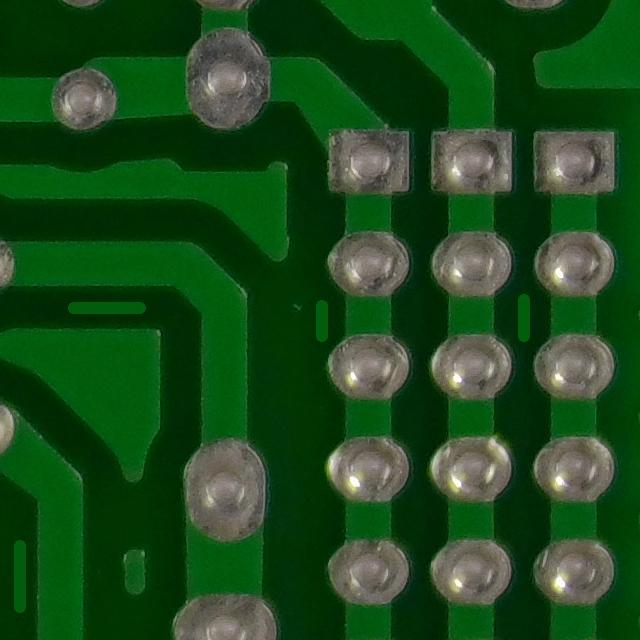spurious_copper: (295, 287, 346, 353)
